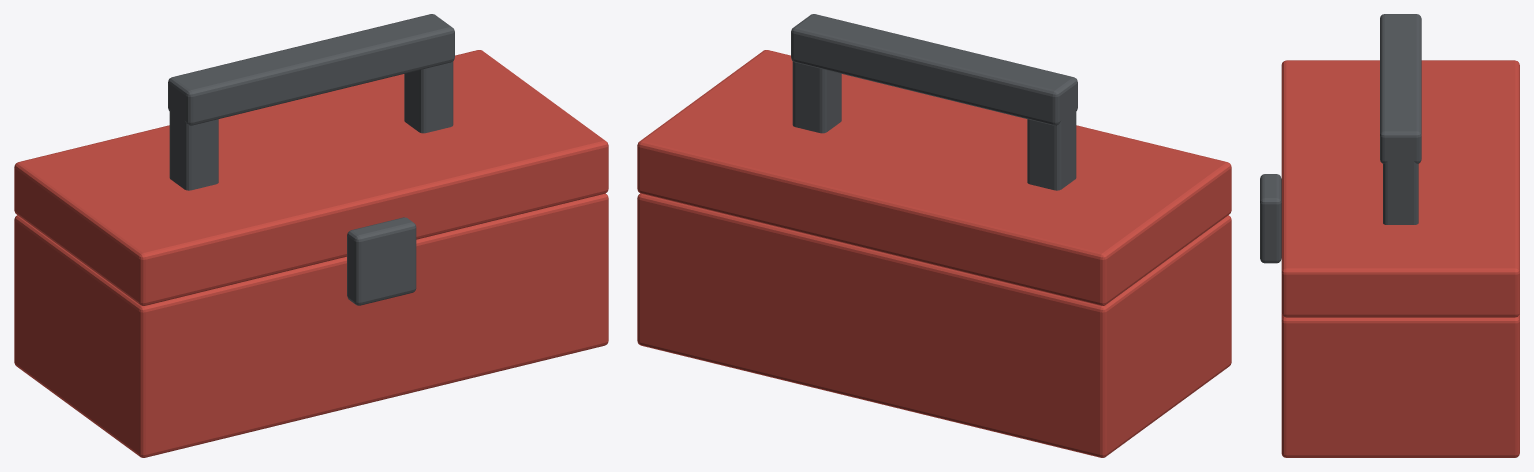
File: compact-toolbox-01.glb
The picture shows the model from 3 angles, left to right: view 1: azimuth 30°, elevation 25°; view 2: azimuth 150°, elevation 25°; view 3: azimuth 270°, elevation 25°; orthographic projection. The views are drawn at different scales.
Visible parts, largest first — view 1: compact-toolbox-01; view 2: compact-toolbox-01; view 3: compact-toolbox-01.
Part boxes in pixels (x1=…): compact-toolbox-01: x1=14, y1=14, x2=608, y2=457; compact-toolbox-01: x1=637, y1=14, x2=1231, y2=457; compact-toolbox-01: x1=1260, y1=14, x2=1519, y2=457.
Size of the model in its own units: 0.42 by 0.26 by 0.218.
